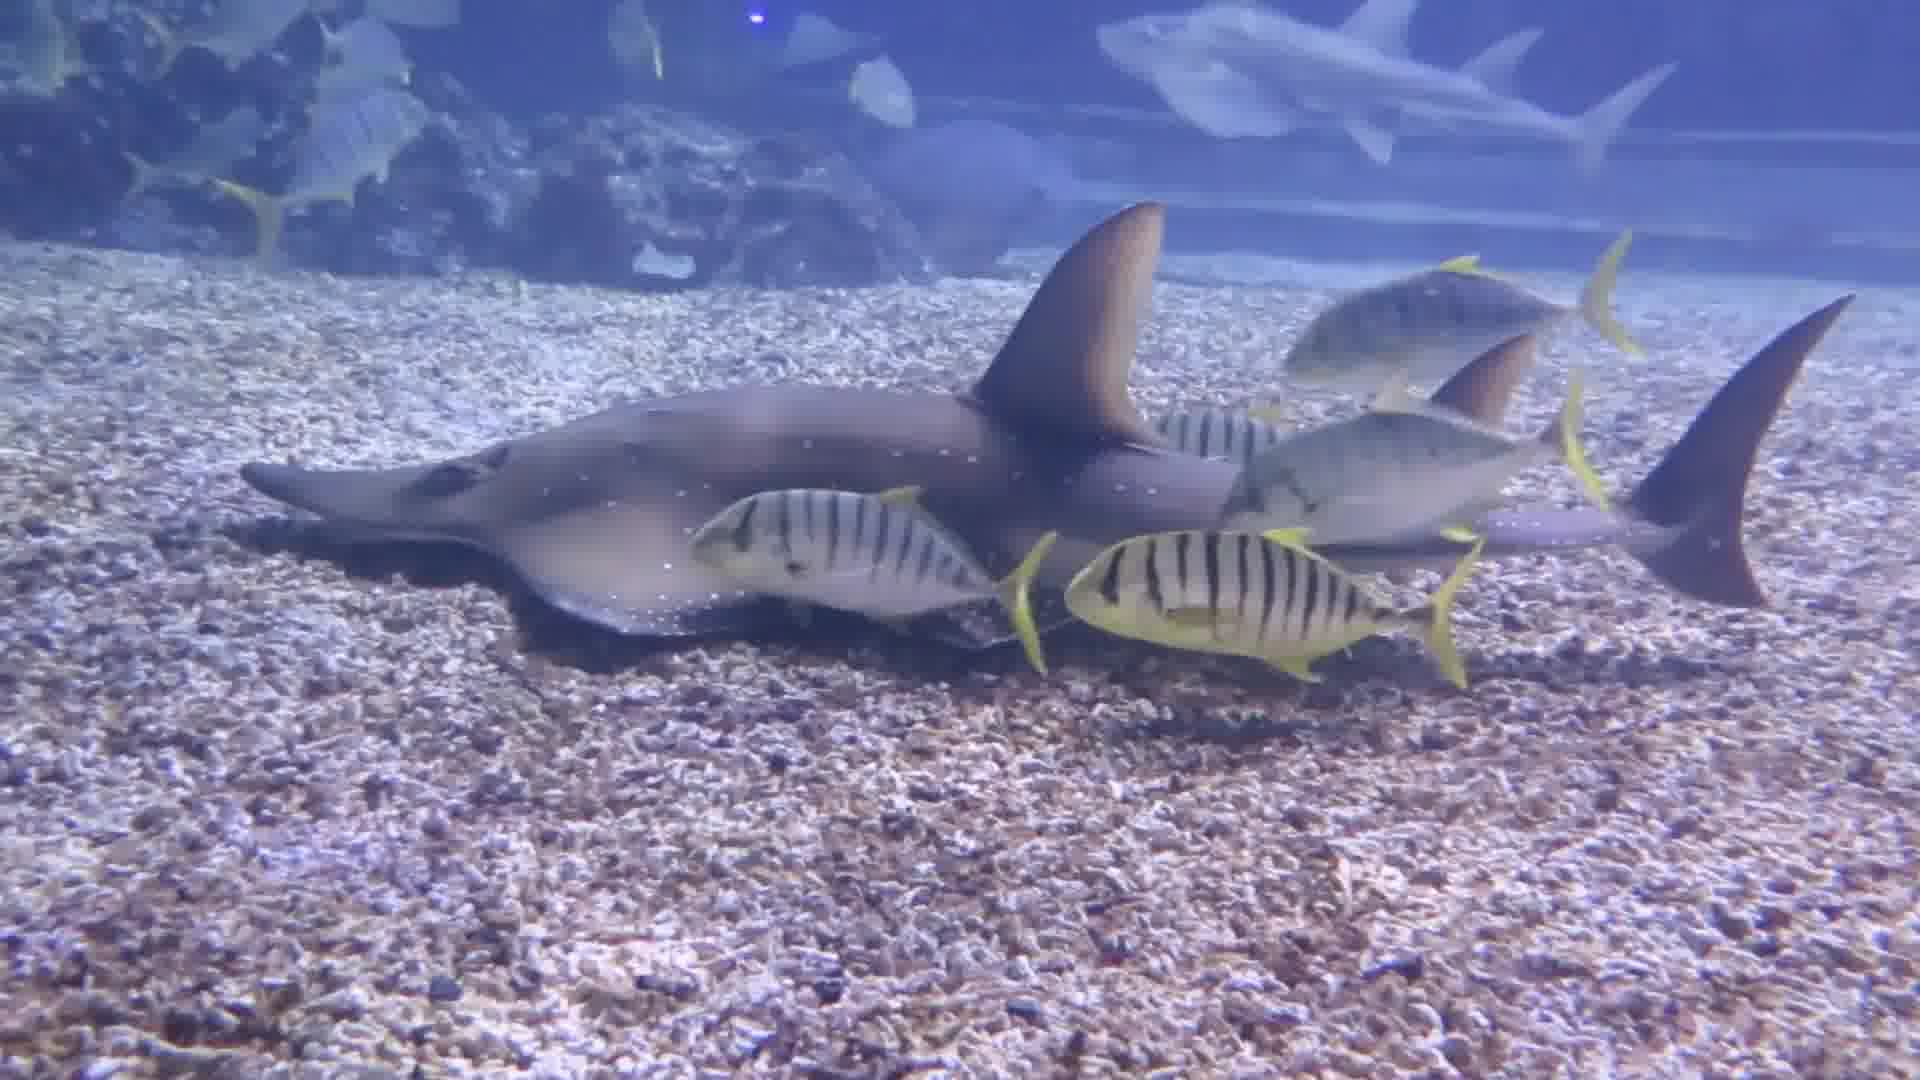Rhychobatus djiddensis: (203, 212, 1851, 690)
